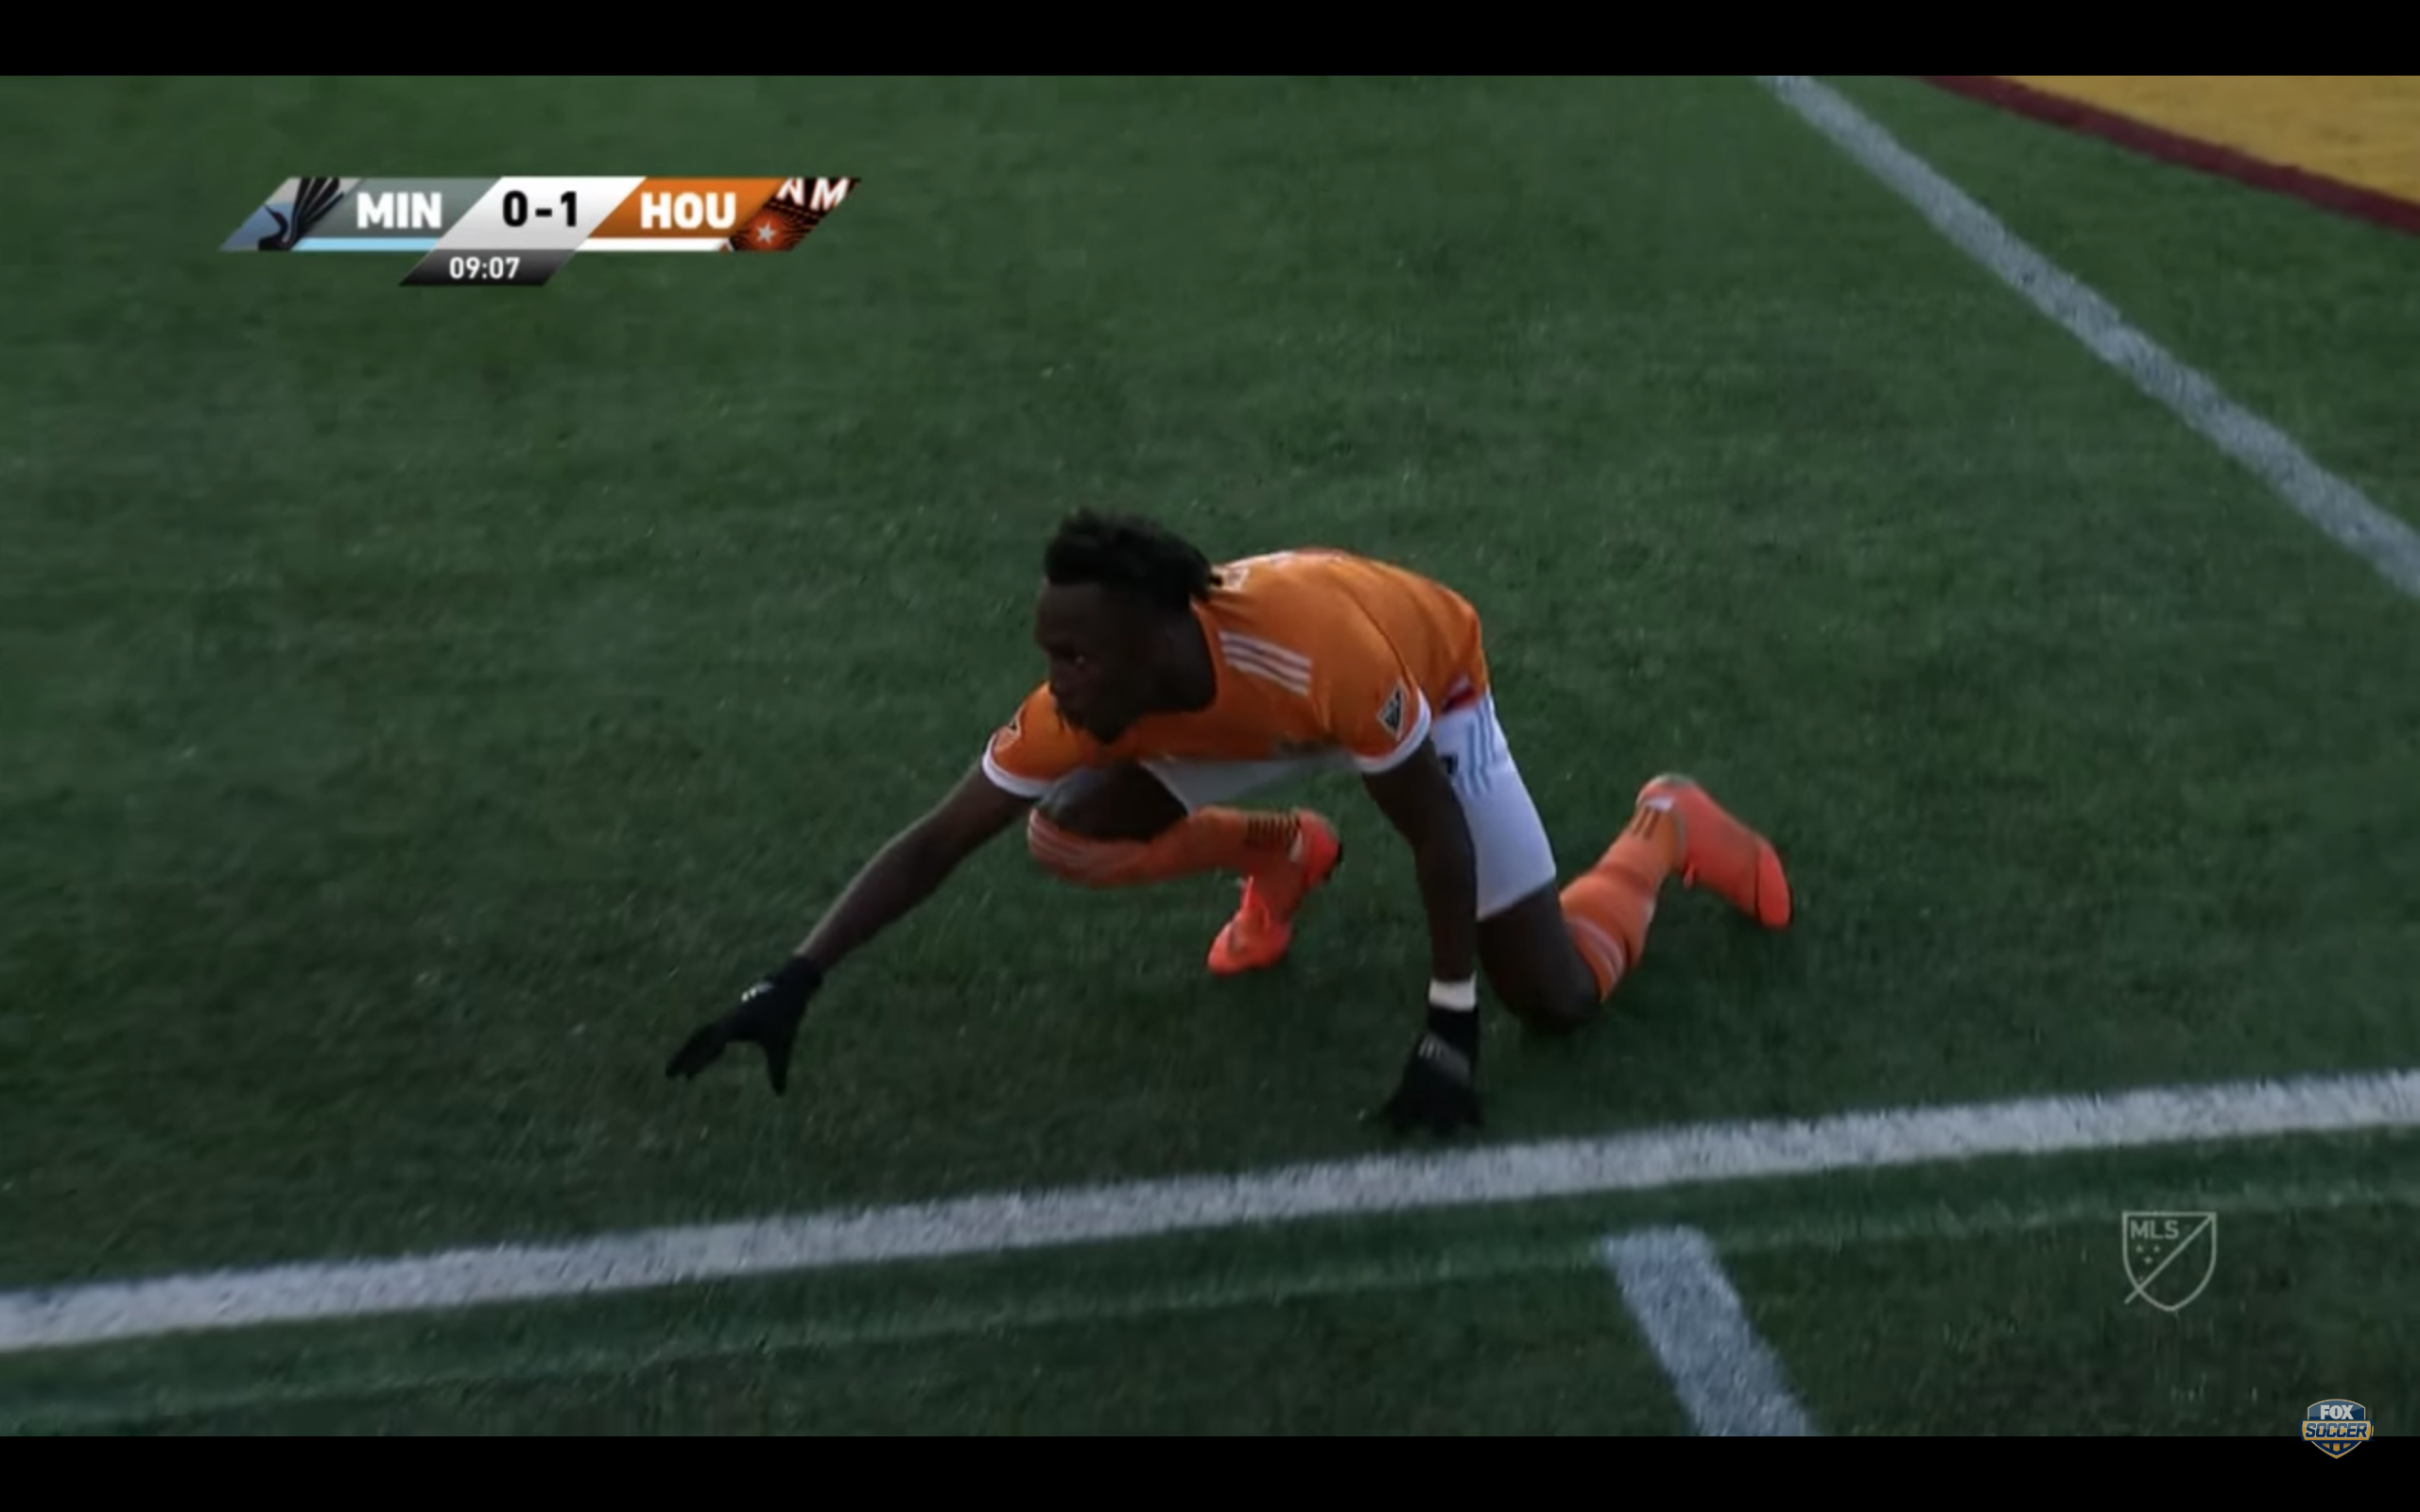soccer player: (653, 502, 1801, 1150)
